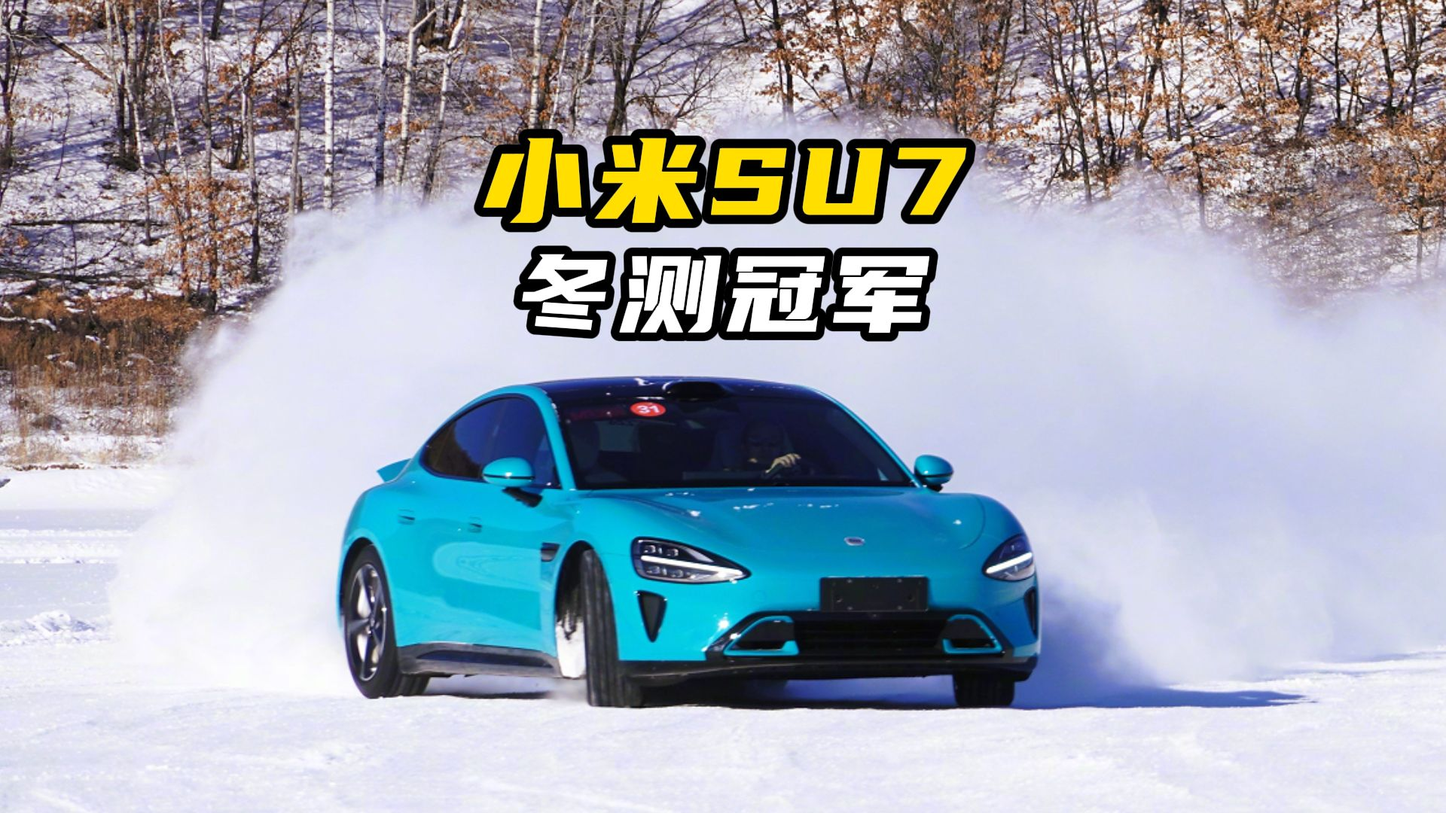su7: (338, 378, 1032, 719)
